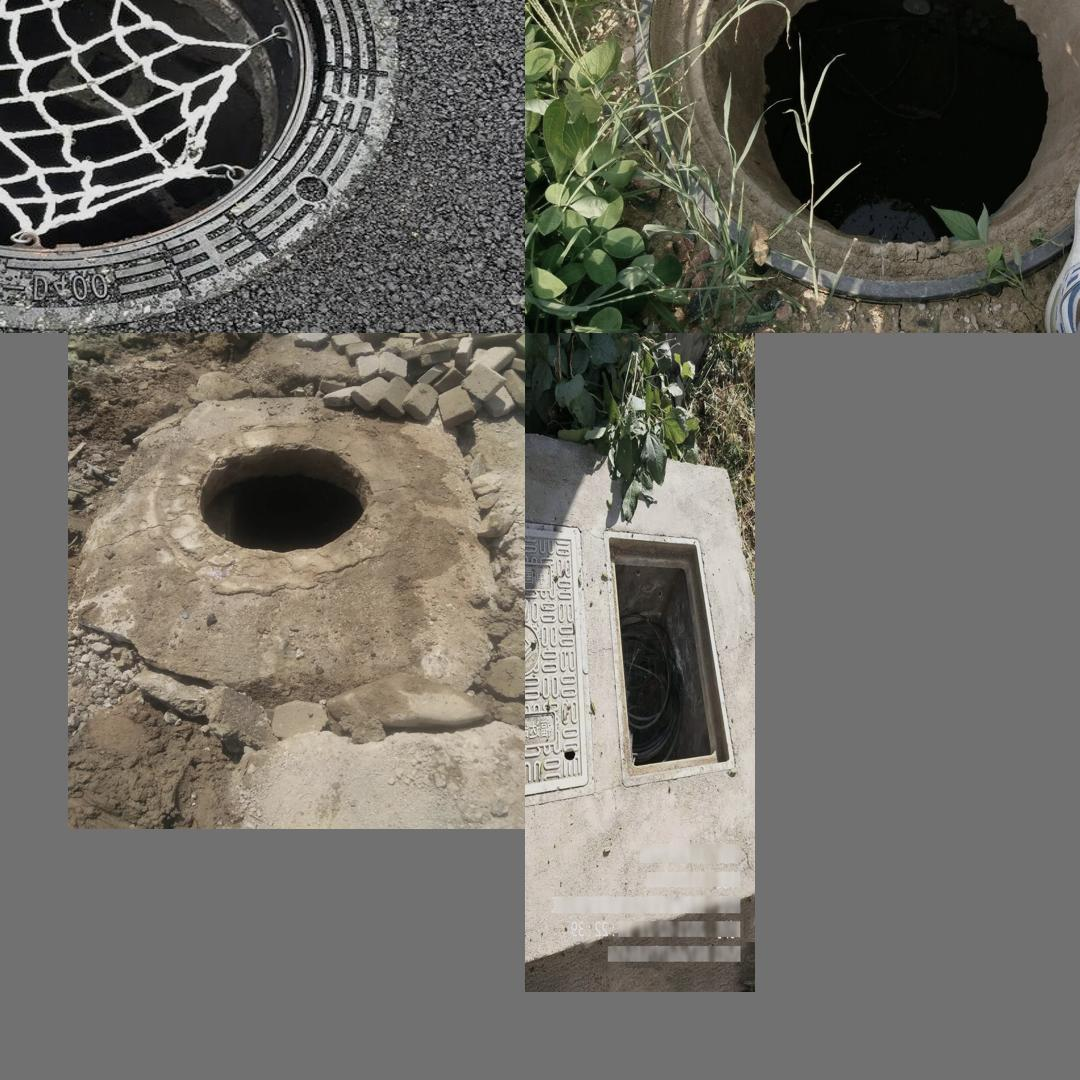lose: (640, 0, 1080, 300), (0, 0, 398, 318), (604, 528, 735, 788), (193, 443, 371, 554)
